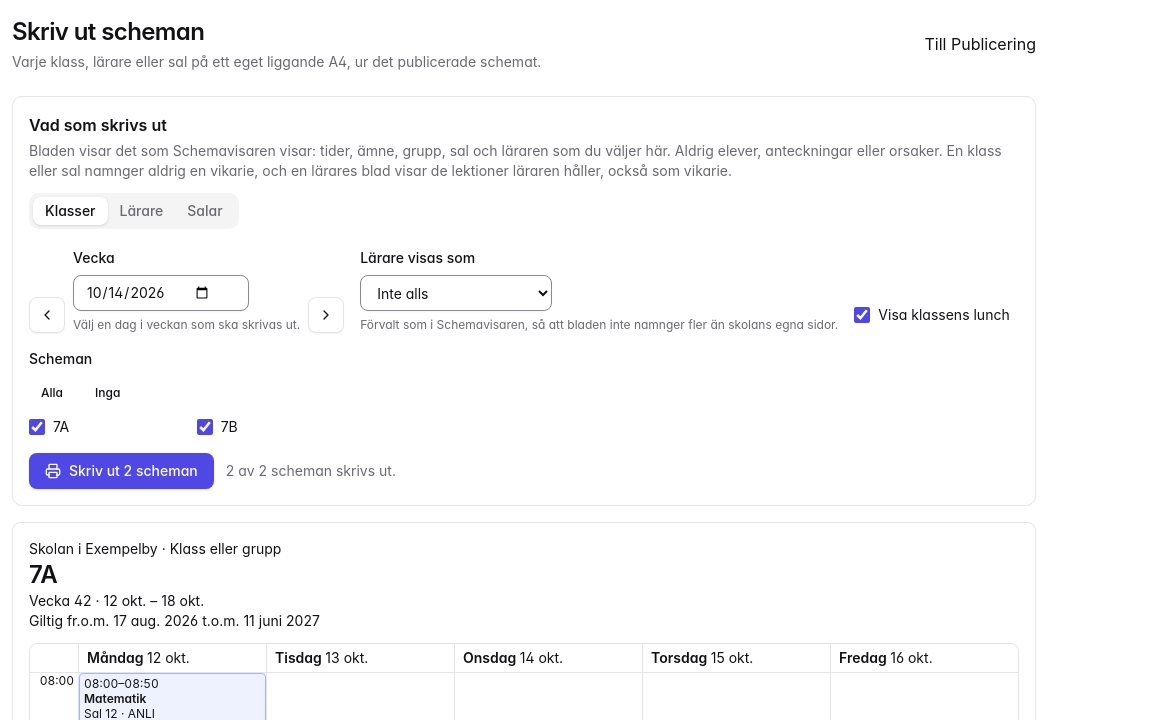
Test: /admin/publishing/print › asks for a typed week only once its year is whole, so a year being typed reads nothing
The width and height of the screenshot is (1164, 720).
Expected: the heading "7A" is shown, [29,560,58,589]
In the date field labelled "Vecka": {"x": 161, "y": 293} [73,275,249,311], type "0002-10-15"
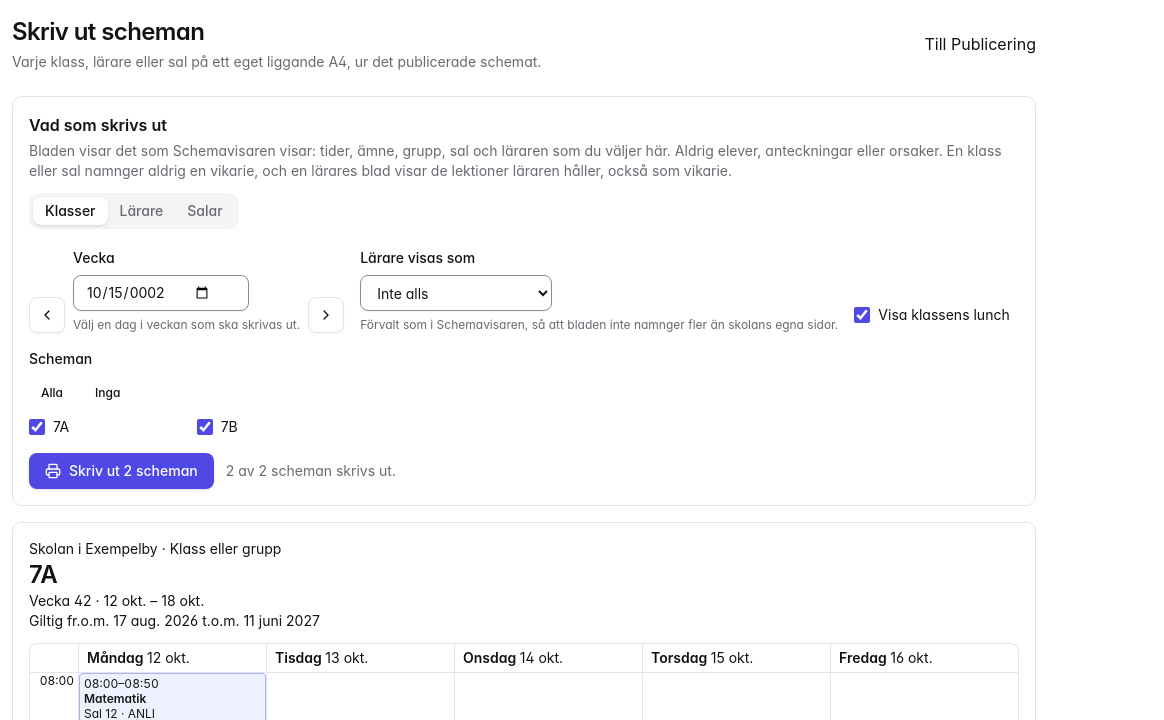
In the date field labelled "Vecka": {"x": 161, "y": 293} [73,275,249,311], type "0020-10-15"
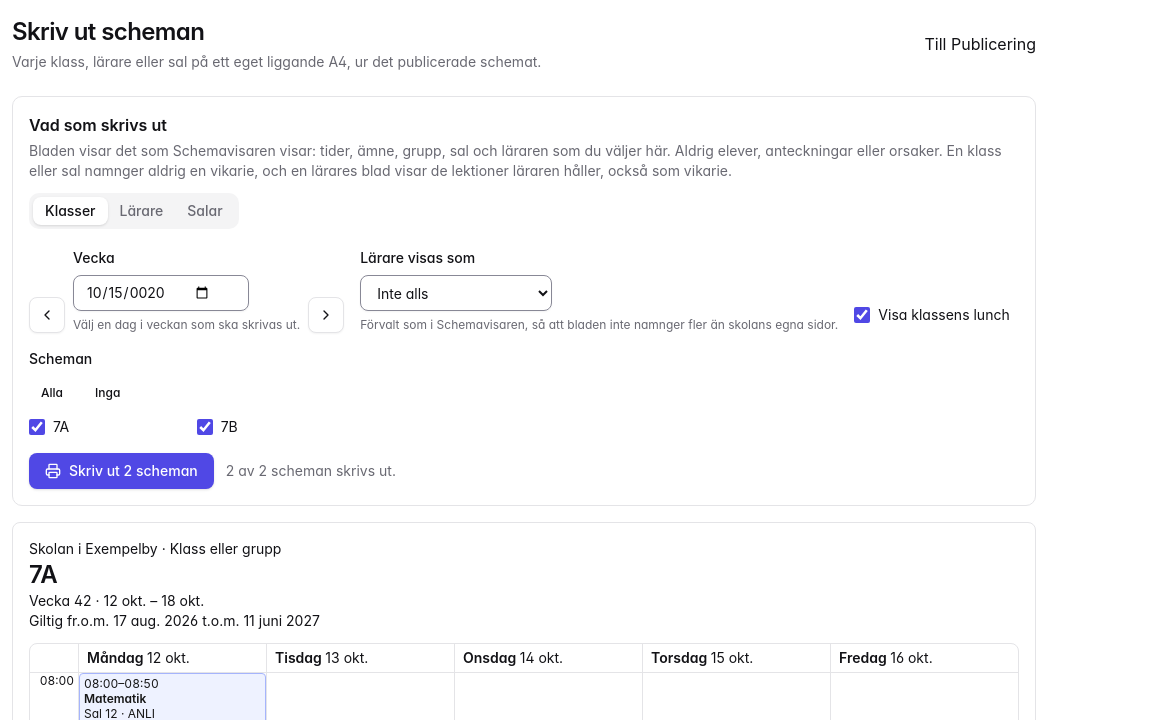
In the date field labelled "Vecka": {"x": 161, "y": 293} [73,275,249,311], type "0202-10-15"
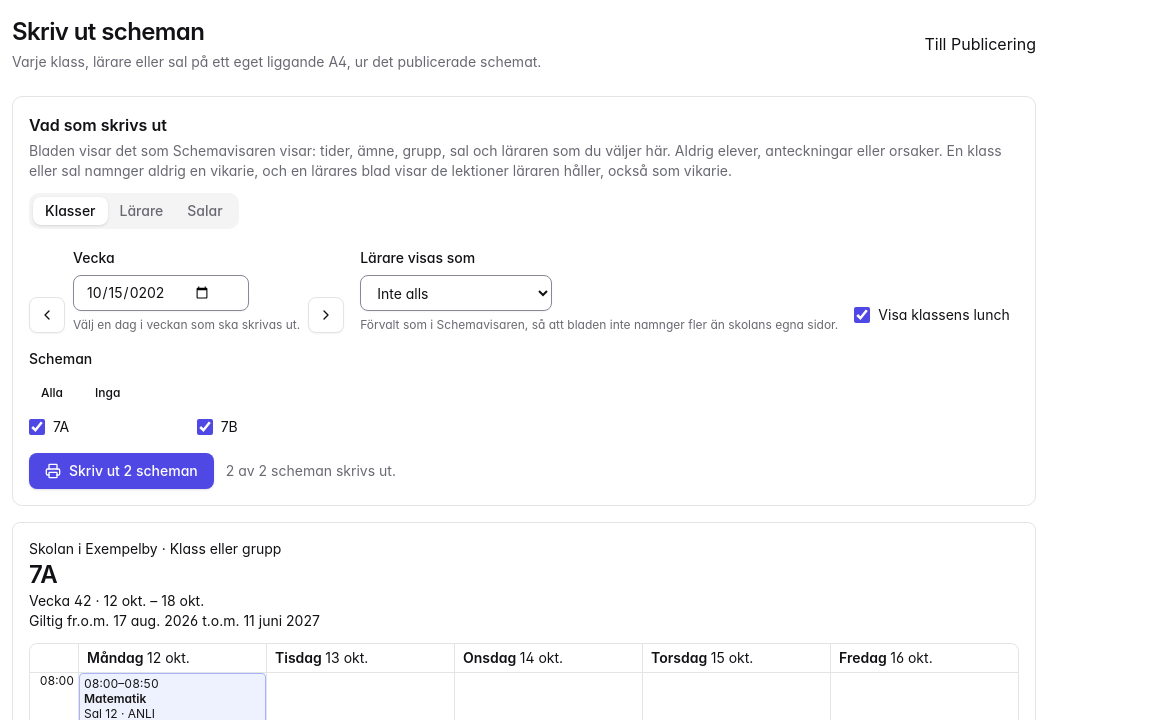
In the date field labelled "Vecka": {"x": 161, "y": 293} [73,275,249,311], type "2027-10-15"
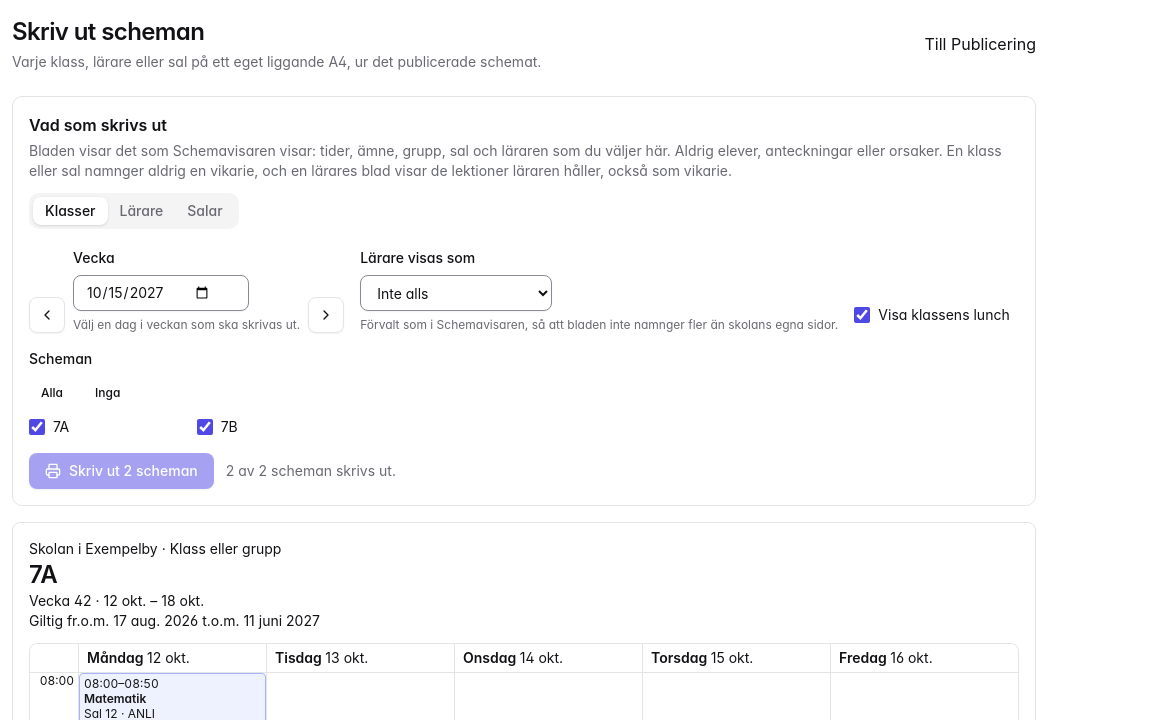
In the date field labelled "Vecka": {"x": 161, "y": 293} [73,275,249,311], type "2027-02-30"
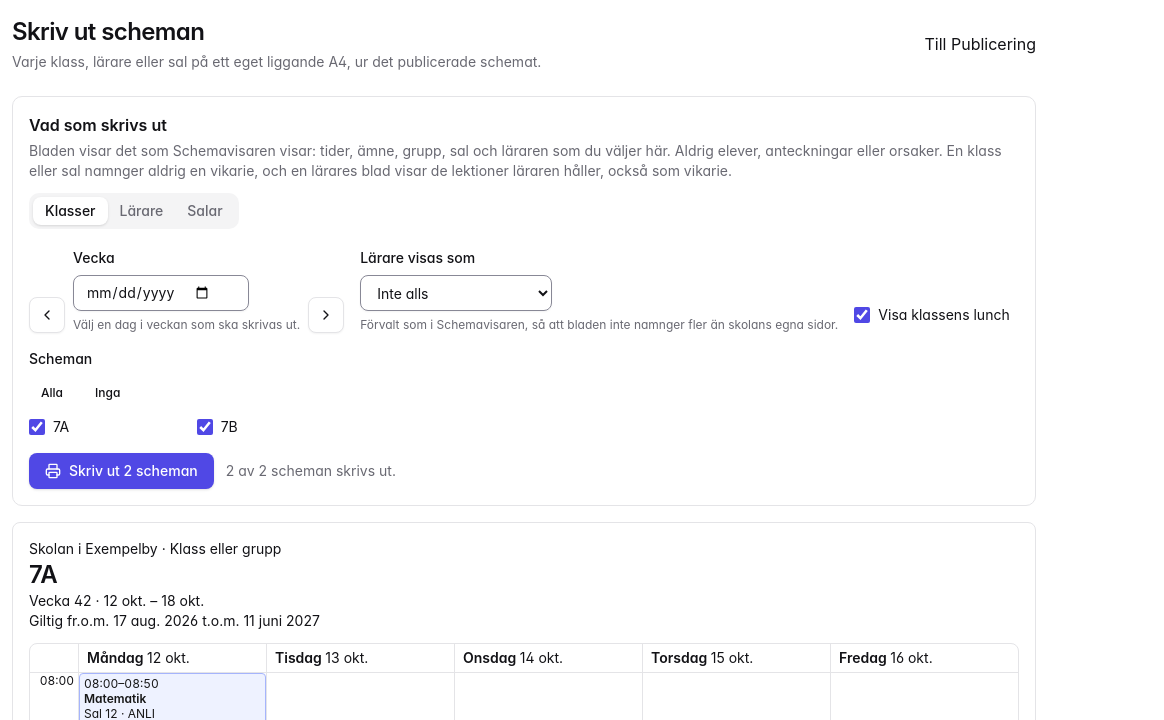
Click the button named "Nästa vecka": {"x": 326, "y": 315} [308,297,344,333]
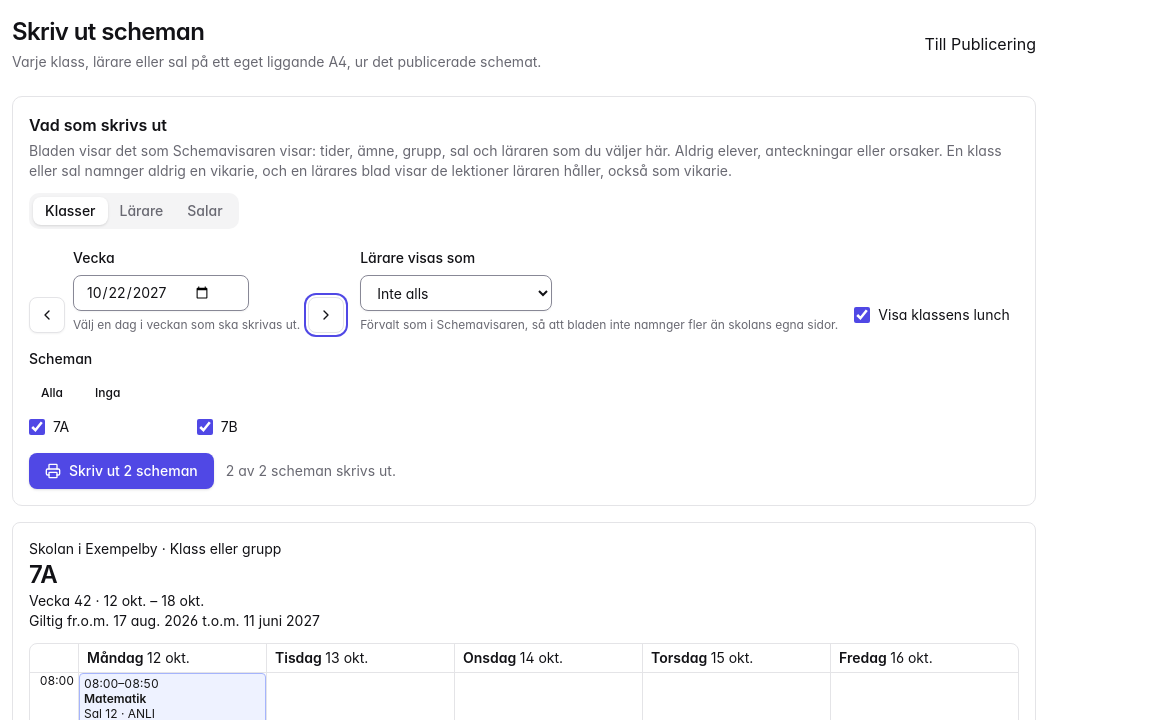
Now the date field labelled "Vecka" holds "2027-10-22", box [73,275,249,311]
